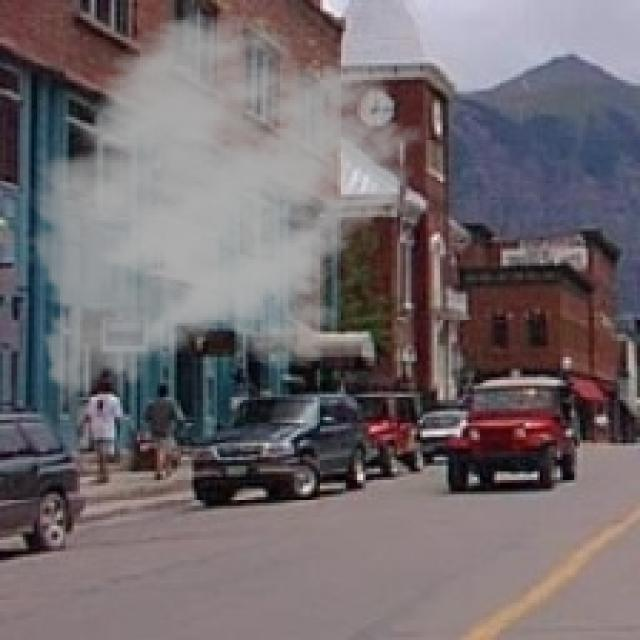smoke: (20, 11, 426, 412)
